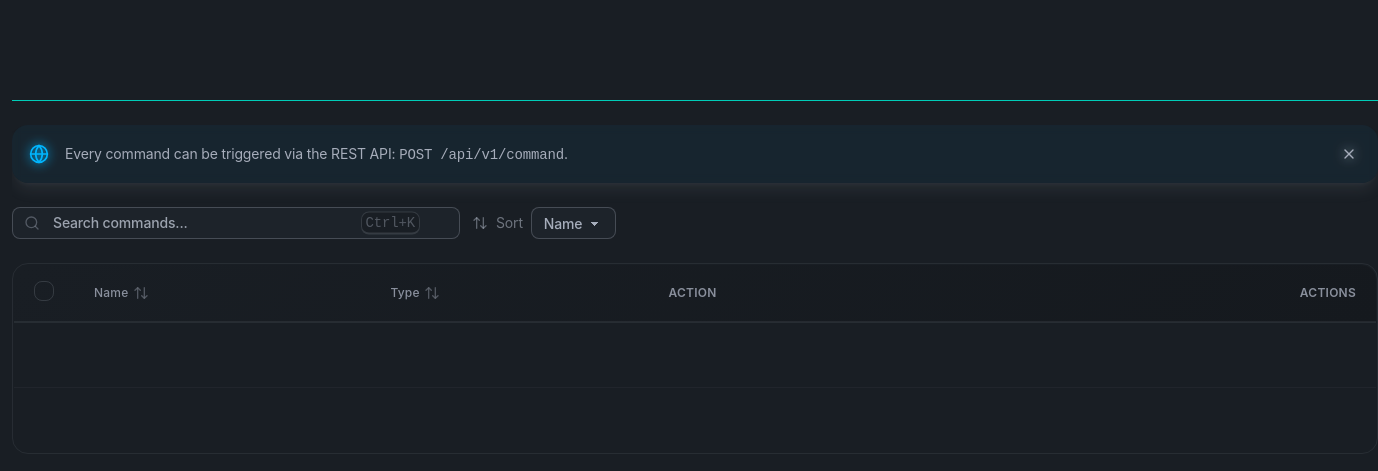
search matches the visible detail, not just the name
In the field labelled "Search commands": (236, 223) [12,207,460,239], type "print_screen"
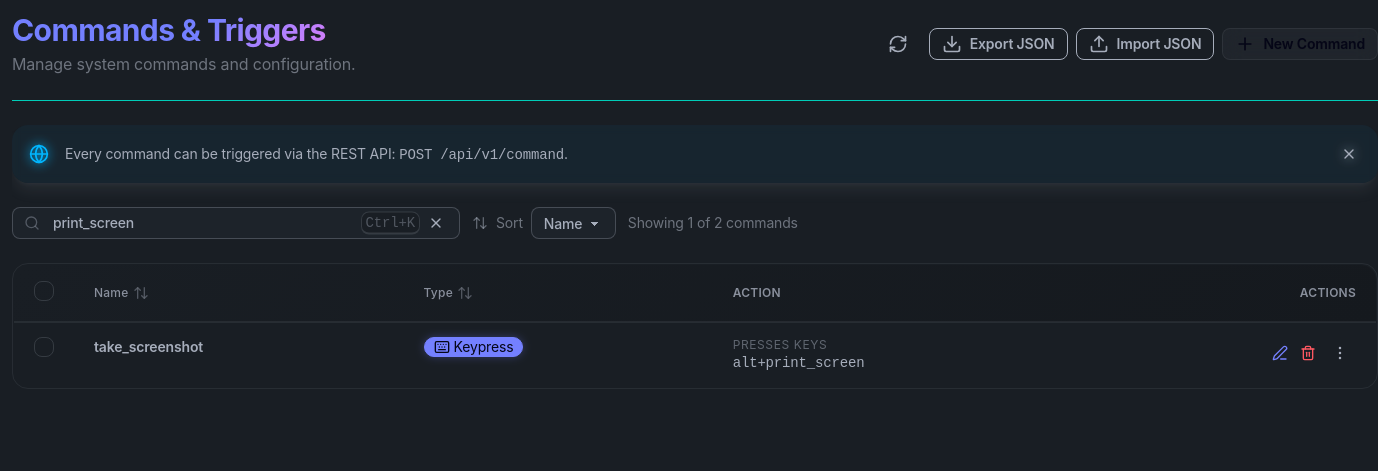
Expected: the text "take_screenshot" is shown, [94,338,203,355]
